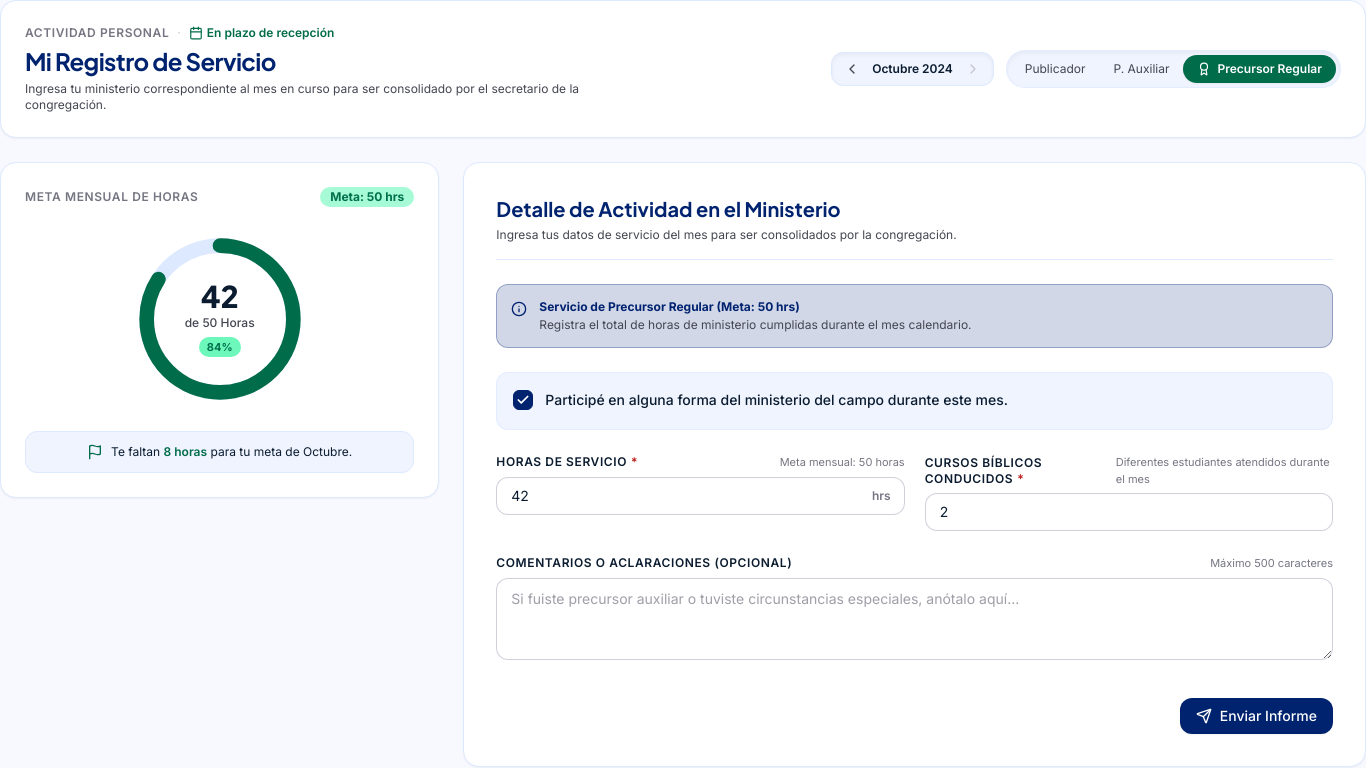
MonthlyReportPage › actualiza la meta de horas cuando se cambia el rol a Precursor Auxiliar
The width and height of the screenshot is (1366, 768).
Click the radio button labelled "P. Auxiliar" at (1142,69), box [1100,55,1184,83]
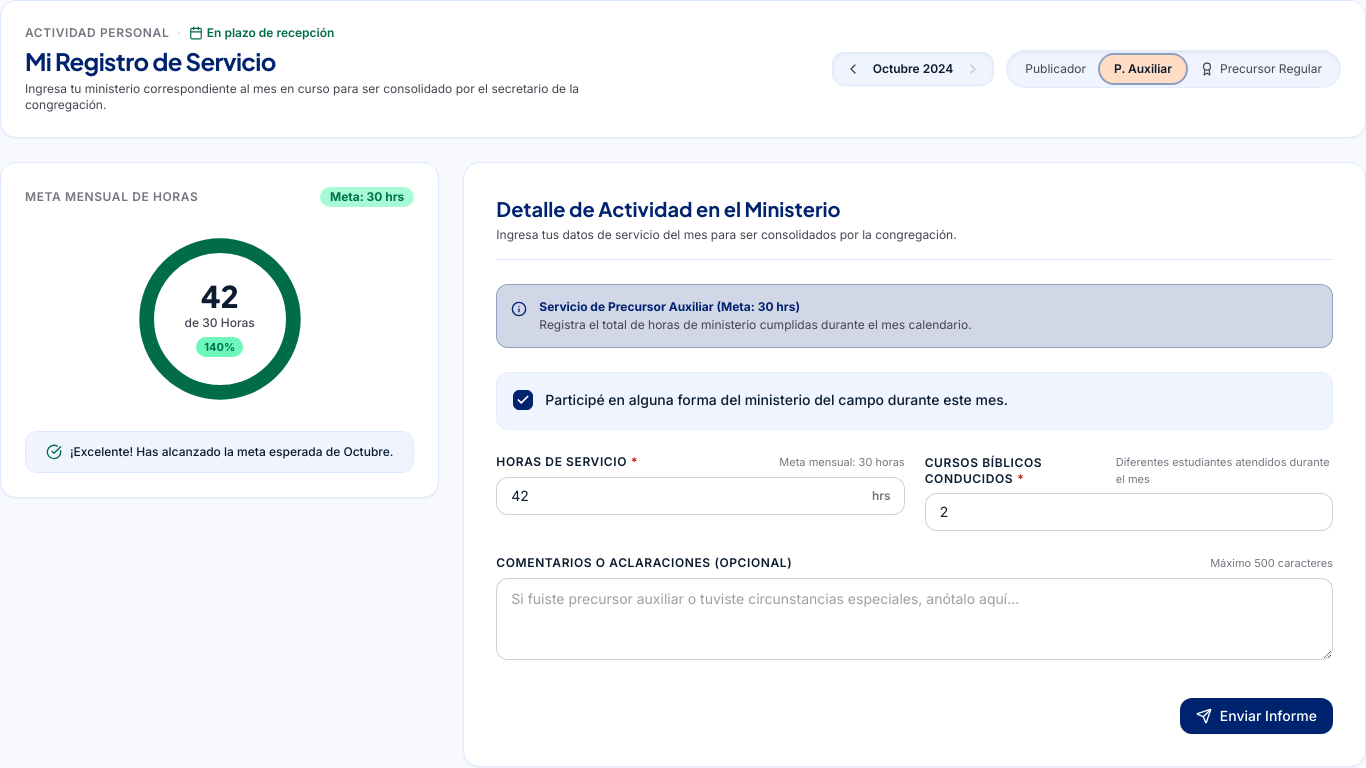
Now the text "Meta: 30 hrs" is shown, box [320,187,414,207]
Now the text "de 30 Horas" is shown, box [184,315,255,331]
